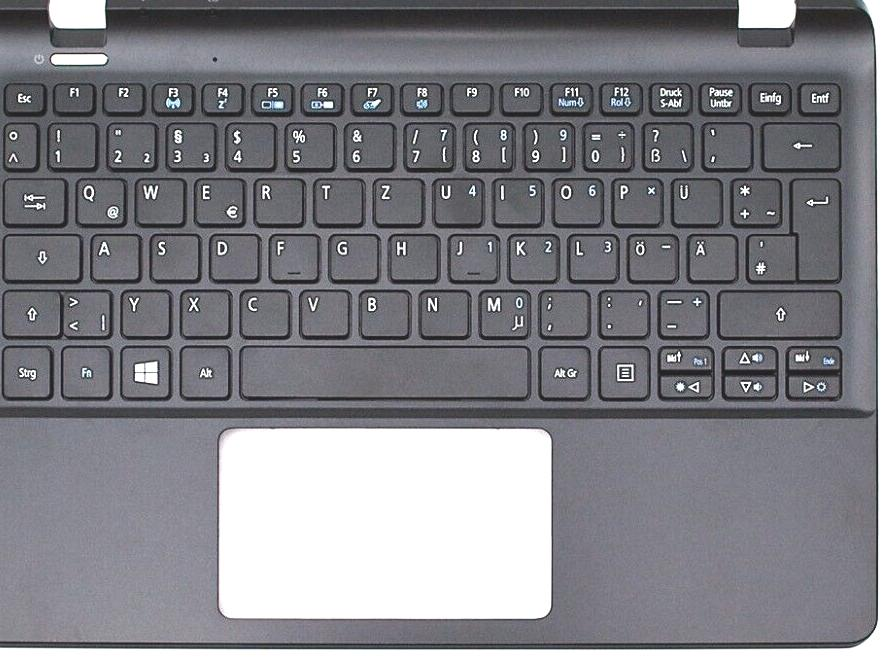0: (583, 122, 636, 172)
1: (47, 122, 100, 172)
2: (106, 121, 159, 171)
3: (164, 121, 218, 173)
4: (224, 122, 277, 172)
5: (283, 122, 337, 172)
6: (343, 122, 396, 171)
7: (404, 122, 457, 172)
8: (463, 122, 517, 172)
9: (523, 121, 576, 173)
a: (90, 233, 143, 284)
accent: (700, 121, 754, 171)
ae: (685, 233, 740, 284)
alt-left: (177, 345, 233, 402)
altgr-right: (539, 346, 591, 400)
b: (356, 289, 412, 341)
c: (238, 288, 292, 341)
caret: (2, 123, 40, 171)
comma: (537, 289, 592, 339)
d: (207, 232, 262, 285)
del: (760, 122, 844, 172)
e: (194, 178, 247, 229)
enter: (790, 177, 844, 286)
f: (268, 233, 320, 284)
g: (326, 233, 381, 284)
h: (387, 232, 442, 285)
hash: (745, 233, 797, 285)
i: (492, 177, 546, 228)
j: (447, 233, 500, 284)
k: (507, 233, 560, 284)
keyboard: (1, 70, 853, 421)
l: (567, 232, 620, 285)
less: (63, 288, 114, 340)
m: (477, 289, 533, 342)
minus: (656, 288, 711, 340)
n: (417, 289, 472, 341)
o: (551, 176, 605, 228)
oe: (625, 233, 681, 285)
p: (611, 177, 666, 228)
plus: (731, 177, 784, 228)
point: (597, 288, 651, 341)
q: (74, 177, 129, 228)
r: (253, 177, 305, 228)
s: (148, 233, 202, 284)
shift-left: (1, 288, 62, 340)
shift-lock: (1, 234, 85, 284)
shift-right: (717, 288, 843, 341)
space: (238, 344, 532, 402)
ss: (641, 121, 695, 172)
strg-left: (1, 344, 55, 402)
t: (313, 177, 366, 229)
tab: (1, 177, 70, 228)
u: (431, 177, 486, 229)
ue: (669, 177, 725, 229)
v: (298, 288, 352, 339)
w: (134, 177, 188, 227)
x: (179, 288, 233, 340)
y: (120, 289, 173, 340)
z: (372, 177, 425, 228)
